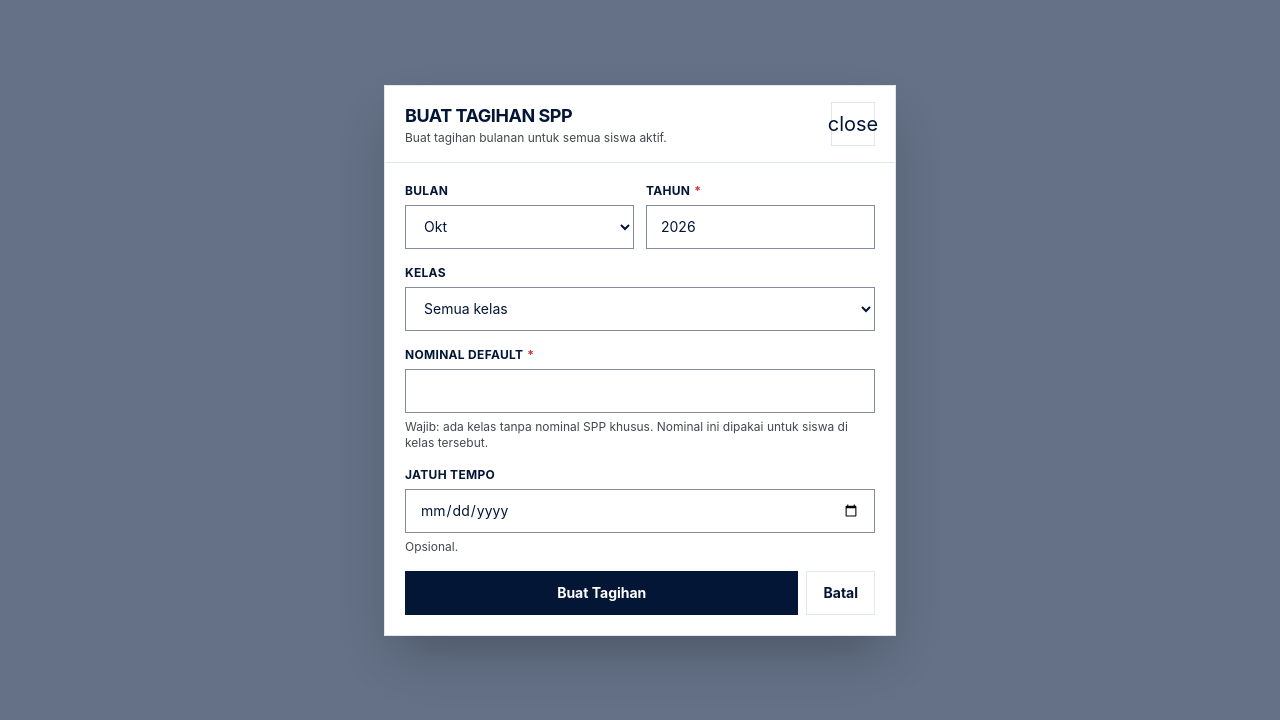
Scenario: SppGenerateModal › mewajibkan nominal default bila ada kelas tanpa nominal SPP
Click the button "Buat Tagihan" at (602, 592), box 405,570 -> 798,614
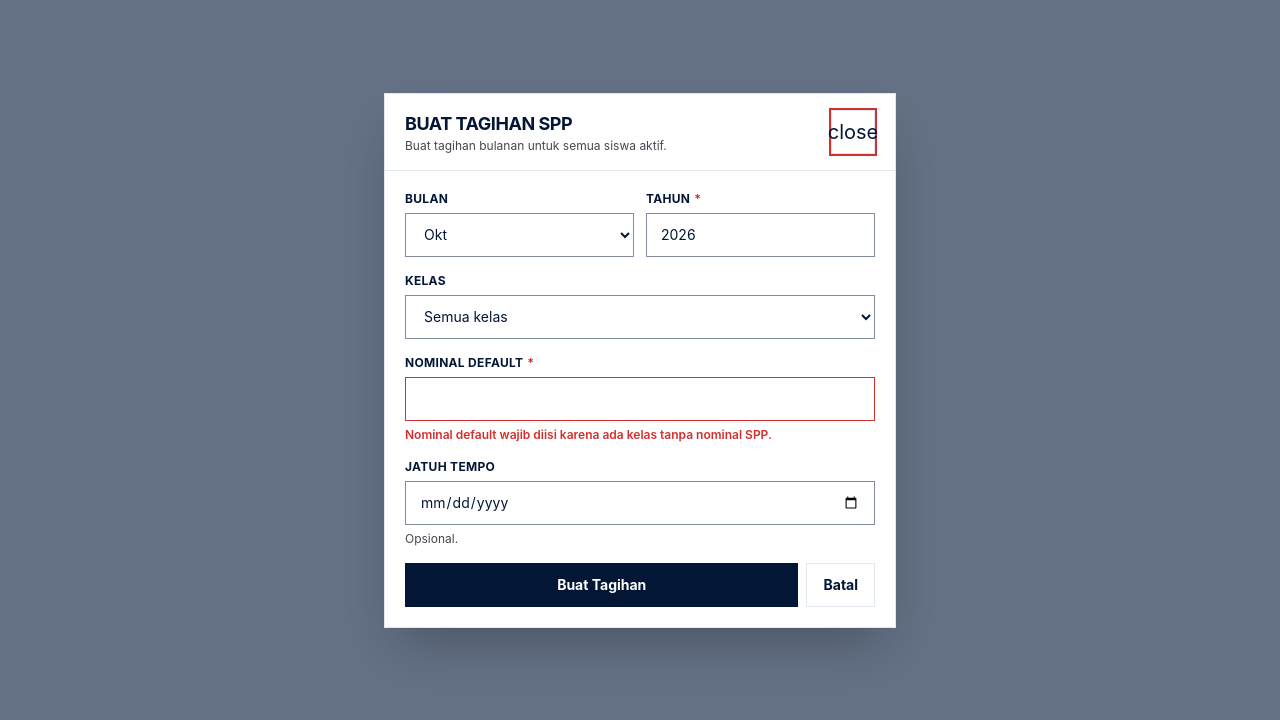
Now the text "Nominal default wajib diisi karena ada kelas tanpa nominal SPP." is shown, box 405,426 -> 772,442
